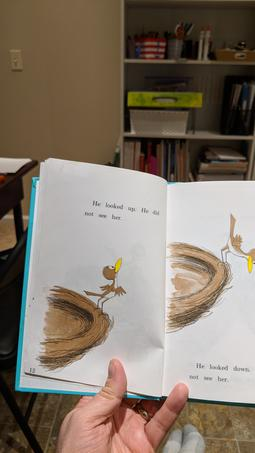text block: (77, 192, 167, 226), (185, 349, 252, 394)
